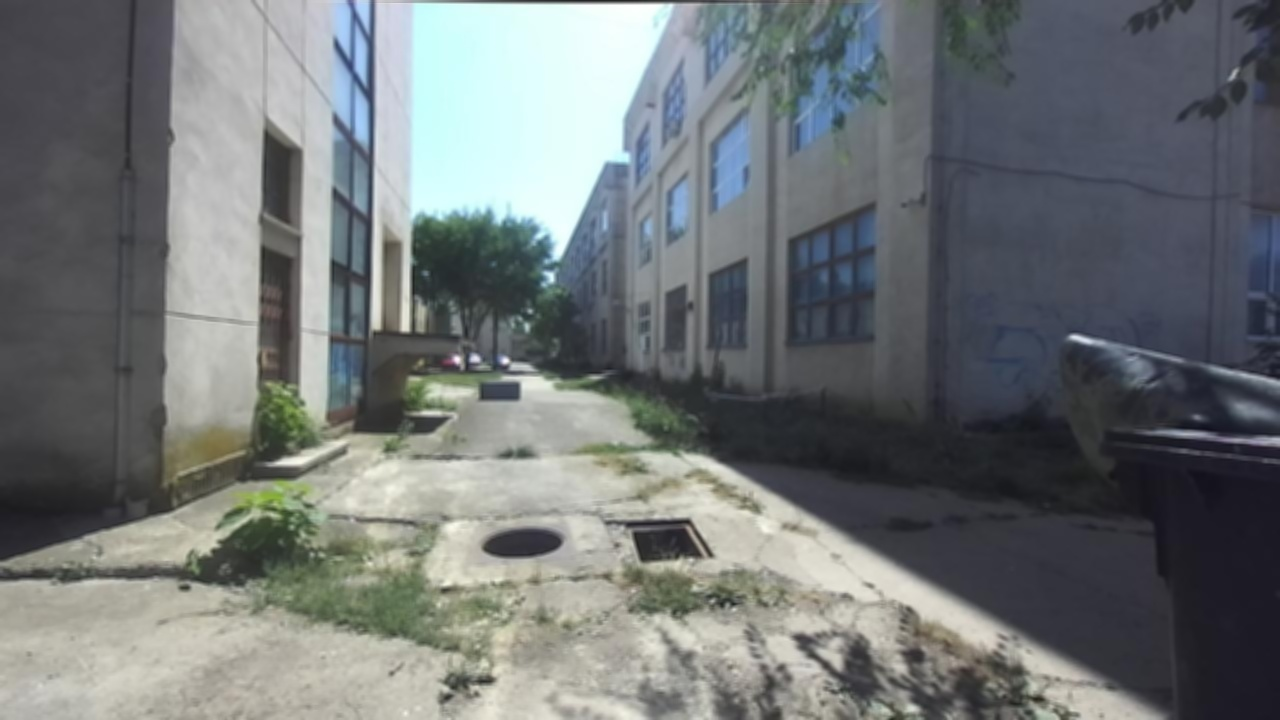drain: (622, 512, 722, 567), (471, 521, 571, 558)
